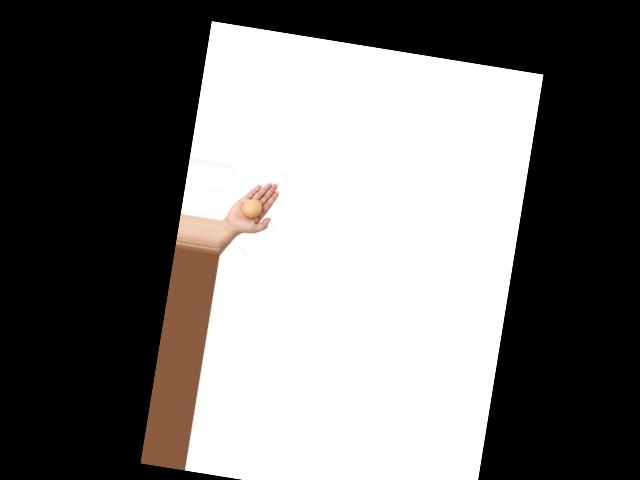egg: (240, 198, 262, 220)
